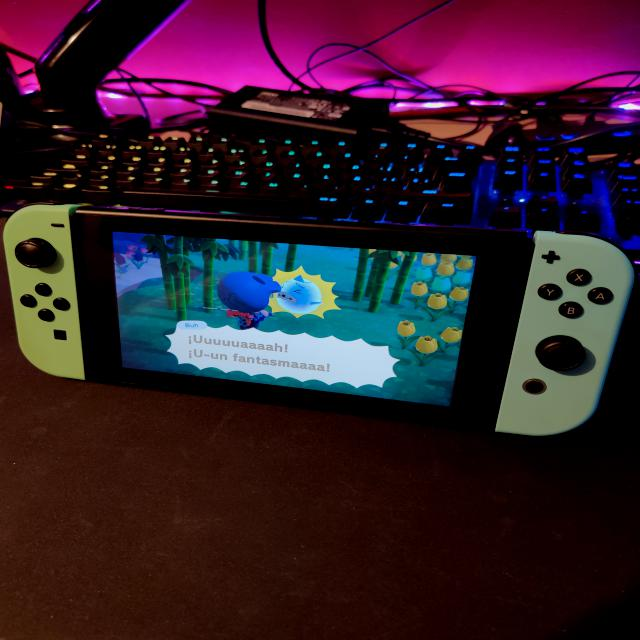text_bubble: (164, 320, 403, 392)
